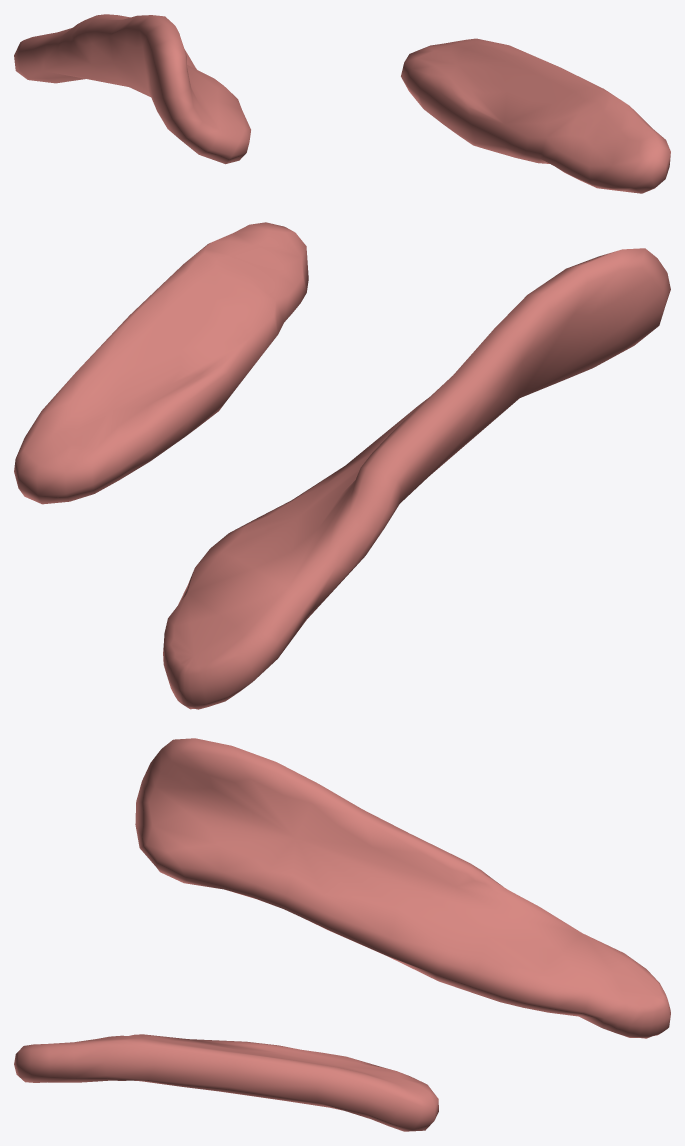
3 renders of one model, top to bottom at view 1: azimuth 30°, elevation 25°; view 2: azimuth 150°, elevation 25°; view 3: azimuth 270°, elevation 25°, orthographic. The views are drawn at different scales.
Visible parts, largest first — view 1: ZA_f1947777b442271a; view 2: ZA_f1947777b442271a; view 3: ZA_f1947777b442271a.
Part boxes in pixels (x1,y1,x2,y2): ZA_f1947777b442271a: (14,14,670,193); ZA_f1947777b442271a: (14,222,670,709); ZA_f1947777b442271a: (14,738,670,1131).
Bounding box in the file's own units: 0.00579 × 0.00315 × 0.00798.
